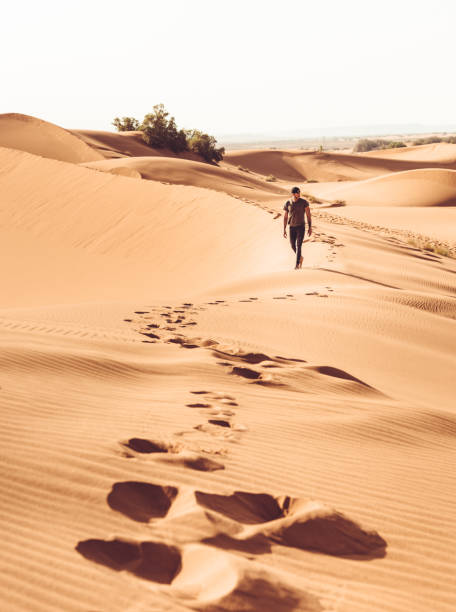human_foot_print: (75, 481, 386, 611)
